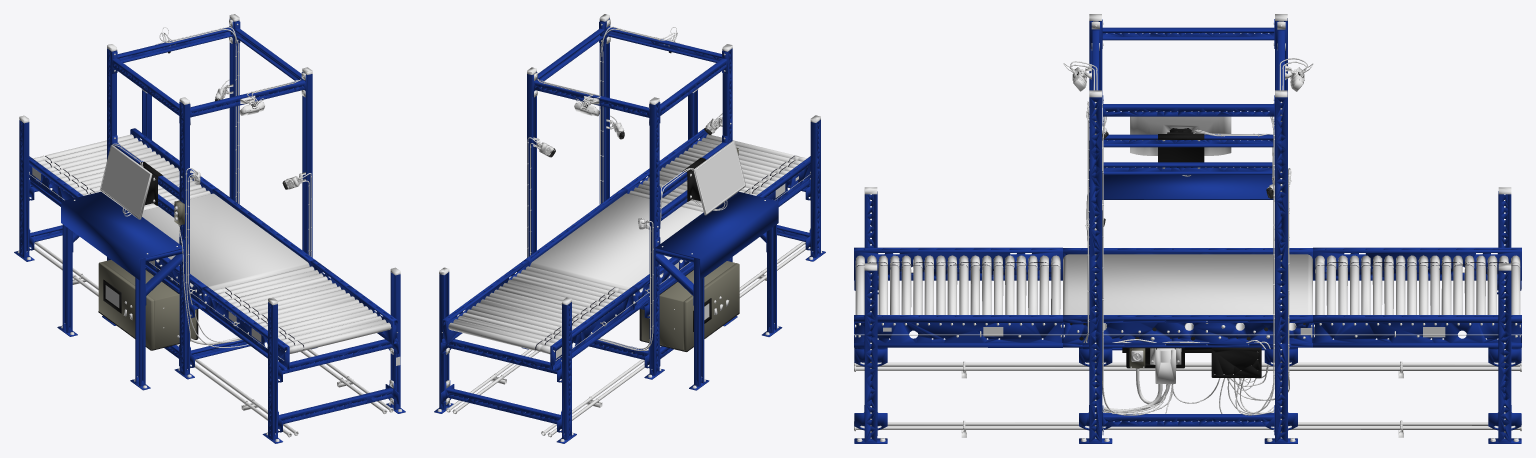
The picture shows the model from 3 angles, left to right: view 1: azimuth 30°, elevation 25°; view 2: azimuth 150°, elevation 25°; view 3: azimuth 270°, elevation 25°; orthographic projection. The views are drawn at different scales.
Parts seen in each view (by area): view 1: part_b492f677aa7a5b7c, part_68c676bea03e510d, part_8bd85293a60856cb, part_ac2e4961338953db, part_8ab84fa53eec5cd2, part_b356586359f8511b, part_0ca6b17b1ba15953, part_4faab7bf7b495580, part_663b9dd1726e5612, part_4f22c847293e5aac, part_ebe1ee5938485de8, part_f3fa07d0afd35888 (+11 smaller); view 2: part_b492f677aa7a5b7c, part_d97cbe16906c5a23, part_893e6863ebe15100, part_2142427796c45352, part_c82b7453aa0a5627, part_1f53666c628d543c, part_2c545c691f6b517b, part_84e16ded23205dea, part_a98f26b69e9051c7, part_3d5c39e101a65828, part_bb2e941bf1695b3f, part_d2d8882fff3f5371 (+10 smaller); view 3: part_b492f677aa7a5b7c.
Part boxes in pixels (left/top/right/bottom): part_b492f677aa7a5b7c: left=14, top=14, right=405, bottom=443; part_68c676bea03e510d: left=289, top=322, right=391, bottom=353; part_8bd85293a60856cb: left=213, top=266, right=314, bottom=293; part_ac2e4961338953db: left=227, top=276, right=327, bottom=303; part_8ab84fa53eec5cd2: left=232, top=279, right=332, bottom=306; part_b356586359f8511b: left=278, top=312, right=377, bottom=339; part_0ca6b17b1ba15953: left=281, top=316, right=381, bottom=343; part_4faab7bf7b495580: left=218, top=270, right=318, bottom=296; part_663b9dd1726e5612: left=285, top=319, right=386, bottom=346; part_4f22c847293e5aac: left=222, top=273, right=323, bottom=300; part_ebe1ee5938485de8: left=278, top=309, right=372, bottom=336; part_f3fa07d0afd35888: left=267, top=306, right=368, bottom=331; part_b492f677aa7a5b7c: left=434, top=14, right=825, bottom=443; part_d97cbe16906c5a23: left=448, top=322, right=550, bottom=354; part_893e6863ebe15100: left=525, top=266, right=626, bottom=293; part_2142427796c45352: left=507, top=279, right=608, bottom=306; part_c82b7453aa0a5627: left=457, top=316, right=558, bottom=343; part_1f53666c628d543c: left=521, top=269, right=621, bottom=296; part_2c545c691f6b517b: left=453, top=319, right=553, bottom=346; part_84e16ded23205dea: left=512, top=276, right=612, bottom=303; part_a98f26b69e9051c7: left=516, top=273, right=617, bottom=300; part_3d5c39e101a65828: left=462, top=312, right=561, bottom=339; part_bb2e941bf1695b3f: left=471, top=306, right=572, bottom=331; part_d2d8882fff3f5371: left=466, top=309, right=561, bottom=336; part_b492f677aa7a5b7c: left=854, top=14, right=1521, bottom=443.
Size of the model in its own units: 1.54 by 2.31 by 4.
